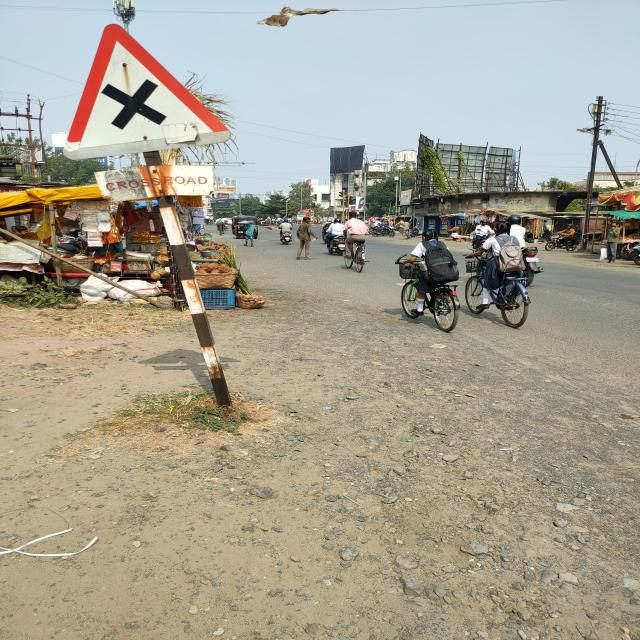cross_road: (56, 23, 256, 160)
